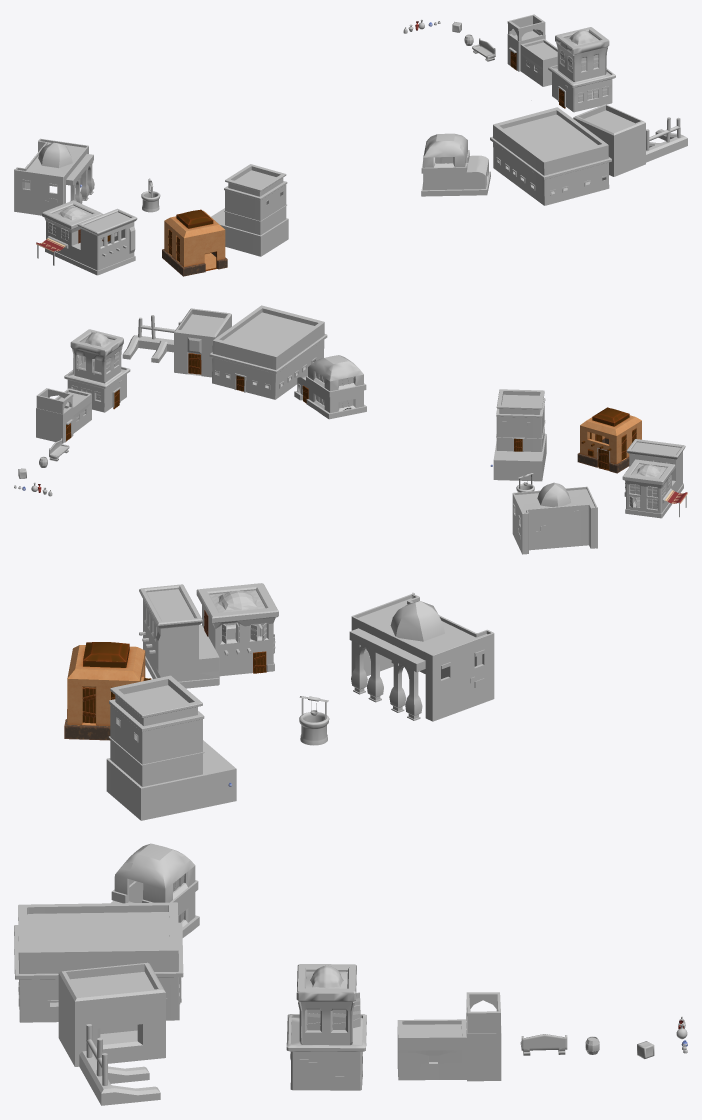
Rendered from Casas.fbx.
3 renders of one model, top to bottom at view 1: azimuth 30°, elevation 25°; view 2: azimuth 150°, elevation 25°; view 3: azimuth 270°, elevation 25°, orthographic. The views are drawn at different scales.
Visible parts, largest first — view 1: pasted__pCube9, pasted__pCube1, polySurface59, pasted__Mercado, pasted__casa, pPlane1, pasted__polySurface5, casaD, pasted__pCube2, POZO:Pozogroup5pCube17; view 2: pasted__pCube9, pasted__Mercado, pasted__pCube1, polySurface59, pasted__casa, pPlane1, pasted__polySurface5, casaD, pasted__pCube2; view 3: pasted__pCube9, pasted__pCube1, pasted__Mercado, pPlane1, polySurface59, pasted__casa, pasted__pCube2, casaD, pasted__polySurface5, POZO:Pozogroup5pCube17, pCube124.
Part boxes in pixels (x1,y1,x2,y2): pasted__pCube9: (490,107,611,205); pasted__pCube1: (211,164,288,256); polySurface59: (42,200,137,275); pasted__Mercado: (14,138,94,215); pasted__casa: (548,27,615,112); pPlane1: (573,104,687,176); pasted__polySurface5: (421,133,490,196); casaD: (162,209,227,276); pasted__pCube2: (507,14,557,86); POZO:Pozogroup5pCube17: (141,178,160,212); pasted__pCube9: (209,305,327,399); pasted__Mercado: (512,482,597,554); pasted__pCube1: (493,389,546,481); polySurface59: (622,439,685,518); pasted__casa: (64,329,130,412); pPlane1: (122,308,231,377); pasted__polySurface5: (294,355,366,419); casaD: (577,407,641,473); pasted__pCube2: (36,388,91,443); pasted__pCube9: (14,902,183,1022); pasted__pCube1: (106,675,236,820); pasted__Mercado: (349,592,494,721); pPlane1: (58,962,165,1105); polySurface59: (139,583,278,688); pasted__casa: (286,964,366,1090); pasted__pCube2: (397,992,501,1081); casaD: (64,642,145,740); pasted__polySurface5: (111,843,199,937); POZO:Pozogroup5pCube17: (299,696,329,745); pCube124: (520,1034,567,1055).
Bounding box in the file's own units: 55.91 × 7 × 34.06.
